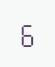six: (19, 20, 34, 47)
